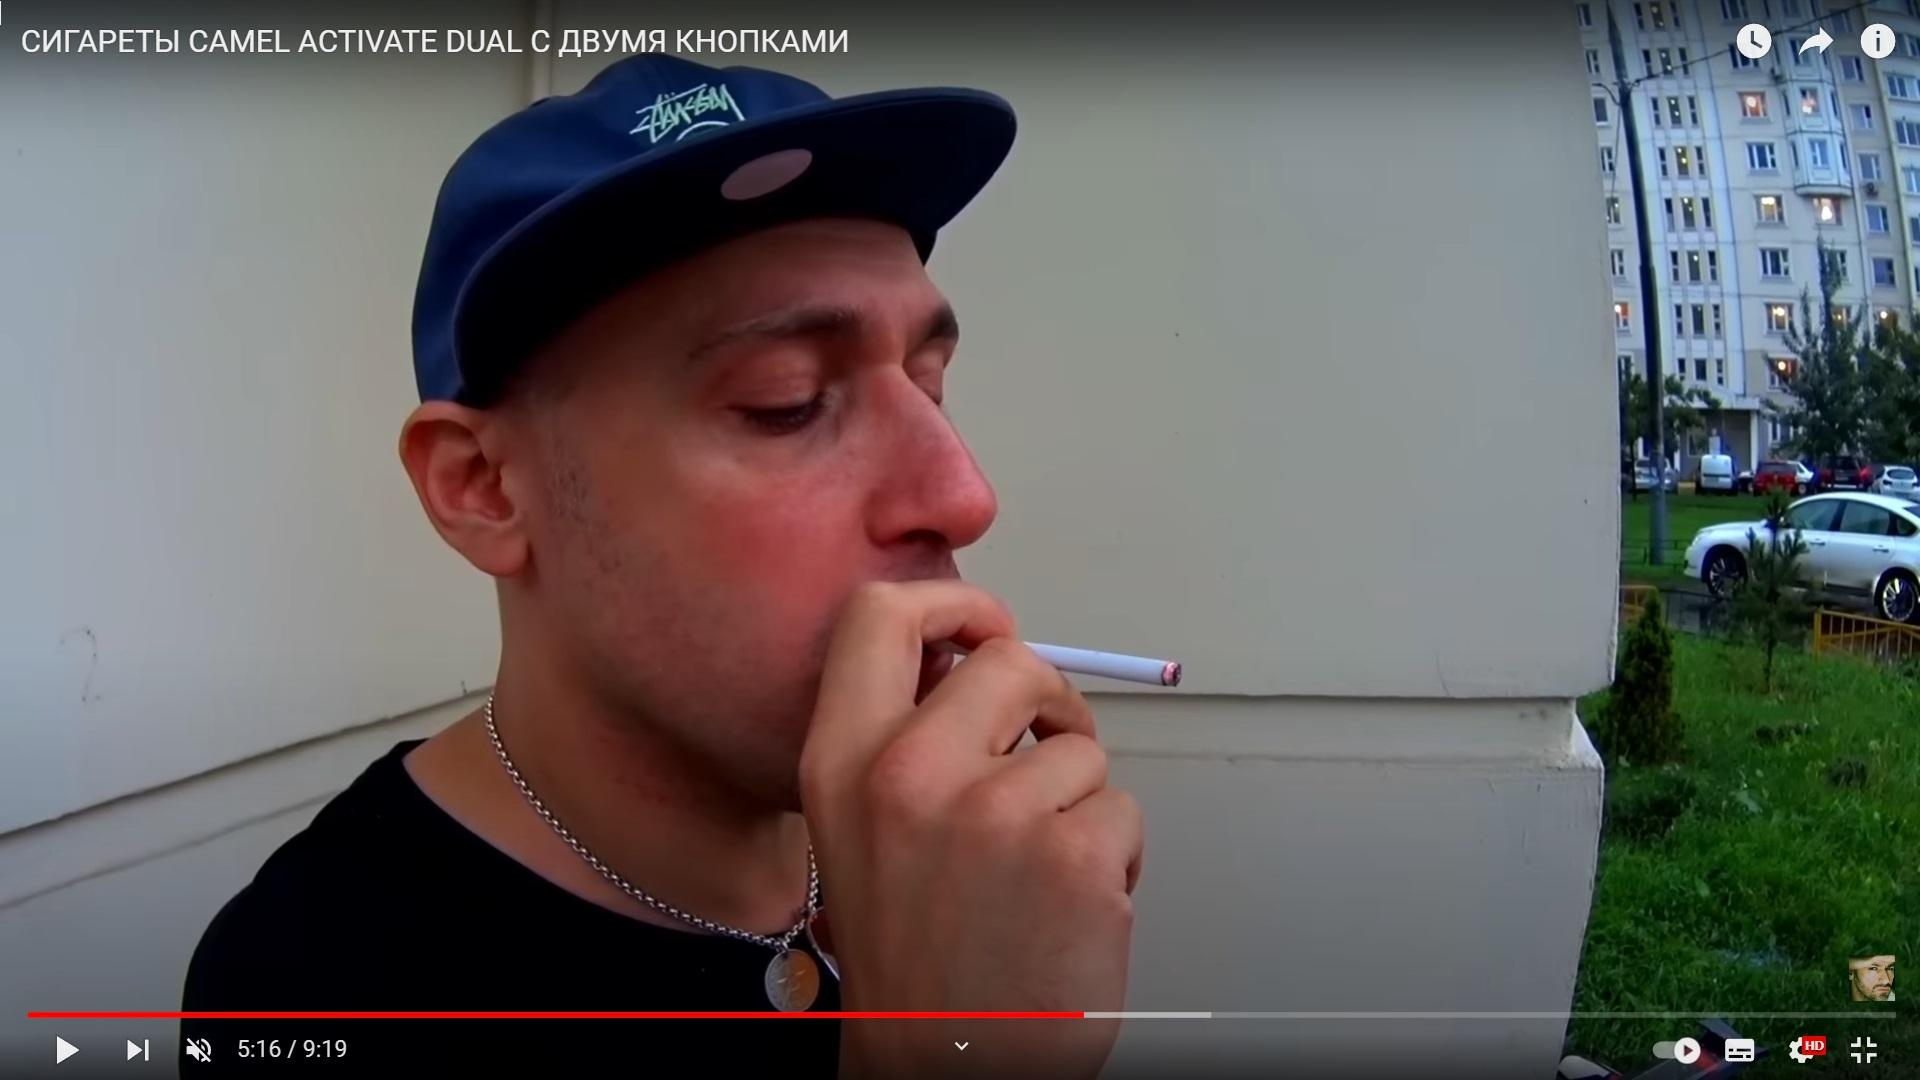cigarette: (932, 637, 1182, 687)
